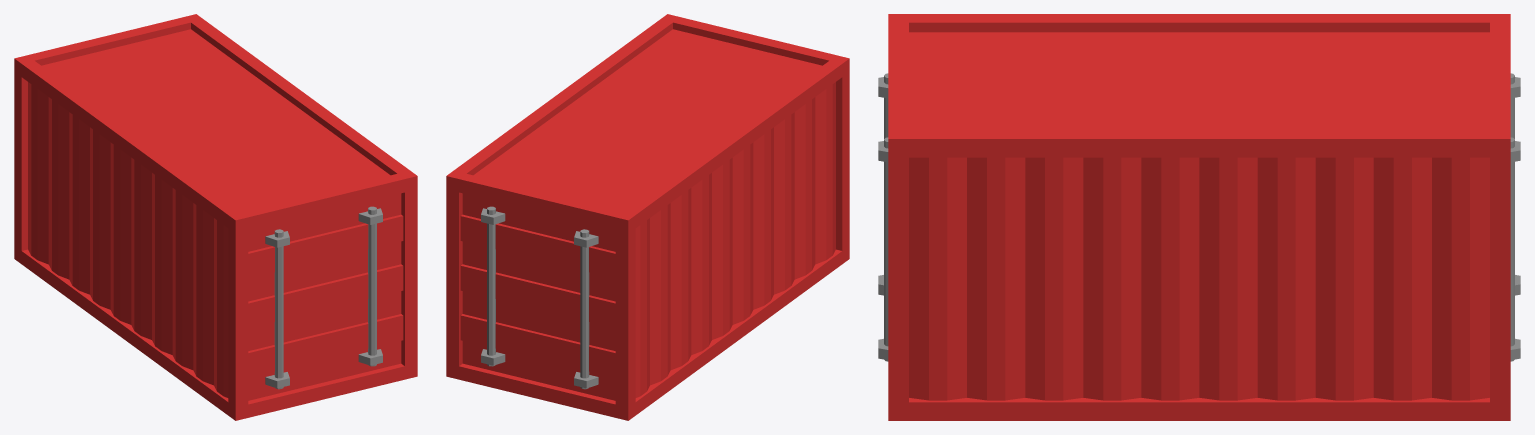
File: shippingContainer.glb
3 renders of one model, left to right at view 1: azimuth 30°, elevation 25°; view 2: azimuth 150°, elevation 25°; view 3: azimuth 270°, elevation 25°, orthographic. The views are drawn at different scales.
Parts seen in each view (by area): view 1: ShippingContainer, SteelBars; view 2: ShippingContainer, SteelBars; view 3: ShippingContainer, SteelBars.
Part boxes in pixels (x1,y1,x2,y2): ShippingContainer: (14, 14, 417, 420); SteelBars: (265, 206, 382, 389); ShippingContainer: (446, 14, 849, 420); SteelBars: (481, 206, 598, 389); ShippingContainer: (888, 14, 1510, 420); SteelBars: (878, 73, 1520, 361).
Size of what is drawn, in the model's own units: 2.85 by 3 by 6.19.
